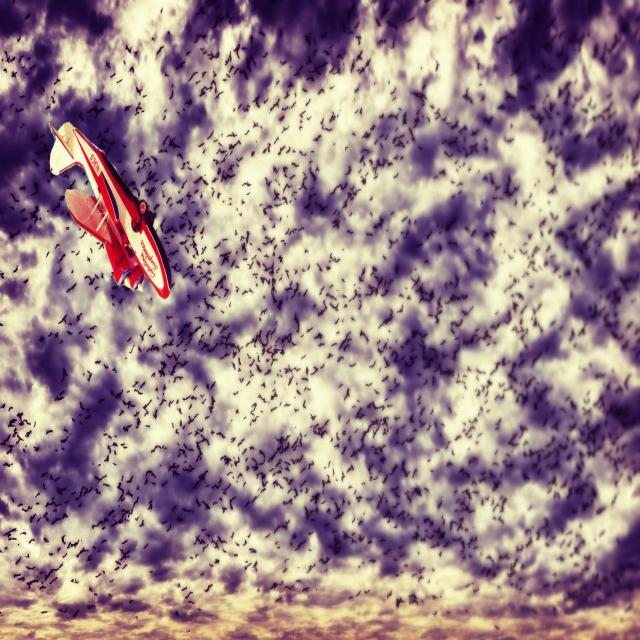airplane: (48, 120, 172, 300)
